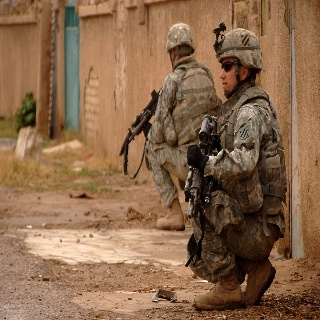rifle: (184, 113, 223, 221), (127, 85, 161, 142)
